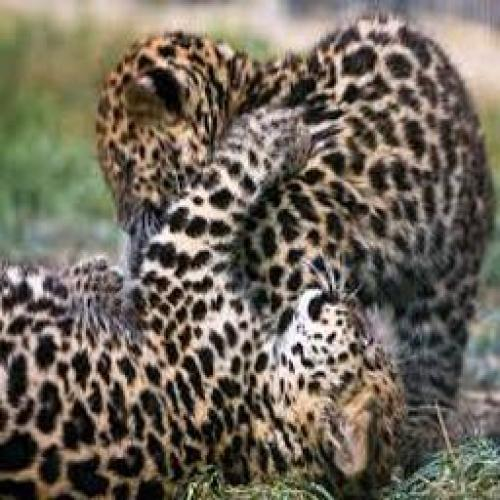amur_leopard-endangered: (99, 19, 489, 310), (0, 237, 422, 491)
